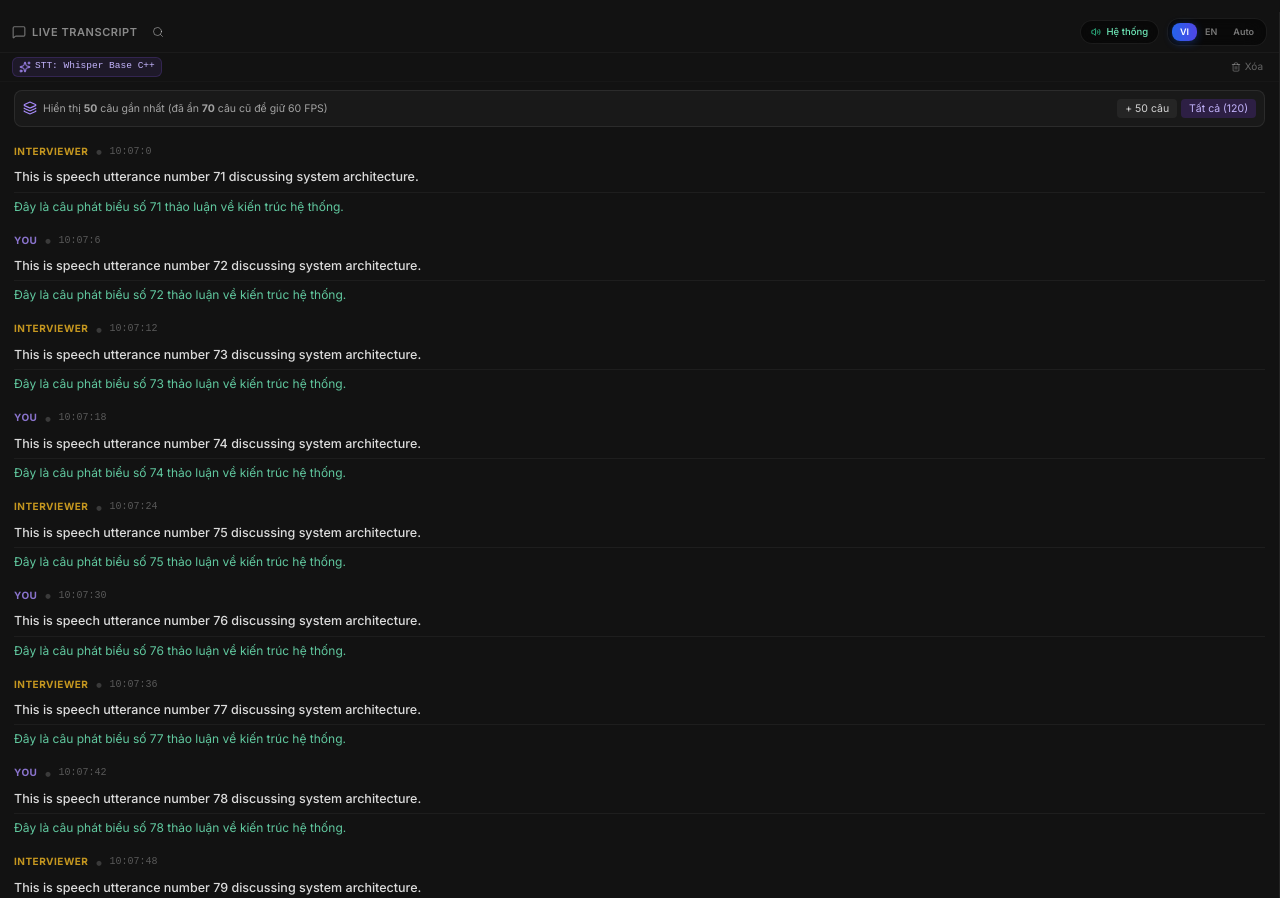
Test: LiveTranscriptPane Component & Virtualization (Plan 4) › expands window by 50 when clicking "+ 50 câu"
Step 1. Click the button "+ 50 câu" → (1147, 108), box [1117, 98, 1177, 118]
(page scrolled)
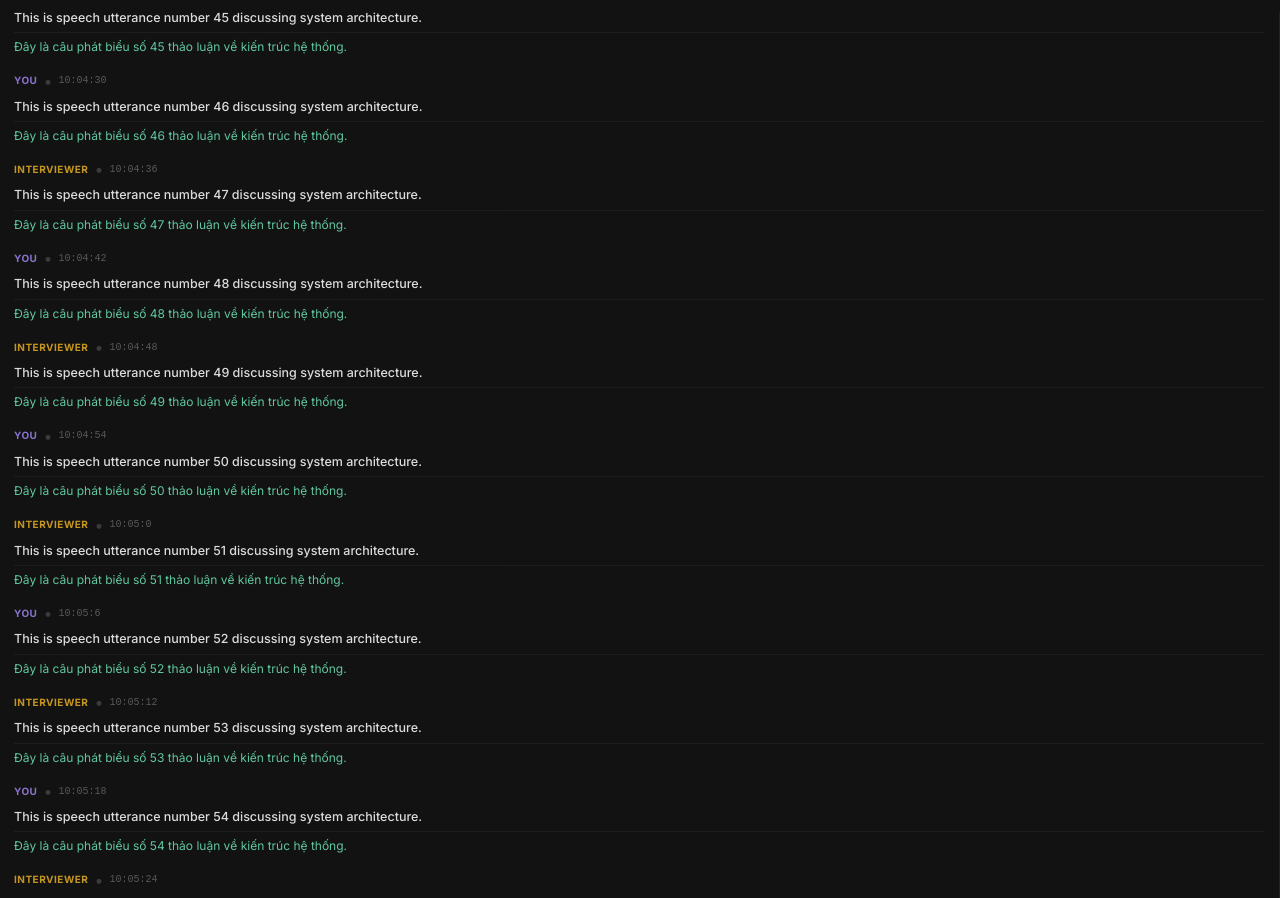
Expected: the text "This is speech utterance number 50 discussing system architecture." is shown, [14, 454, 422, 469]
